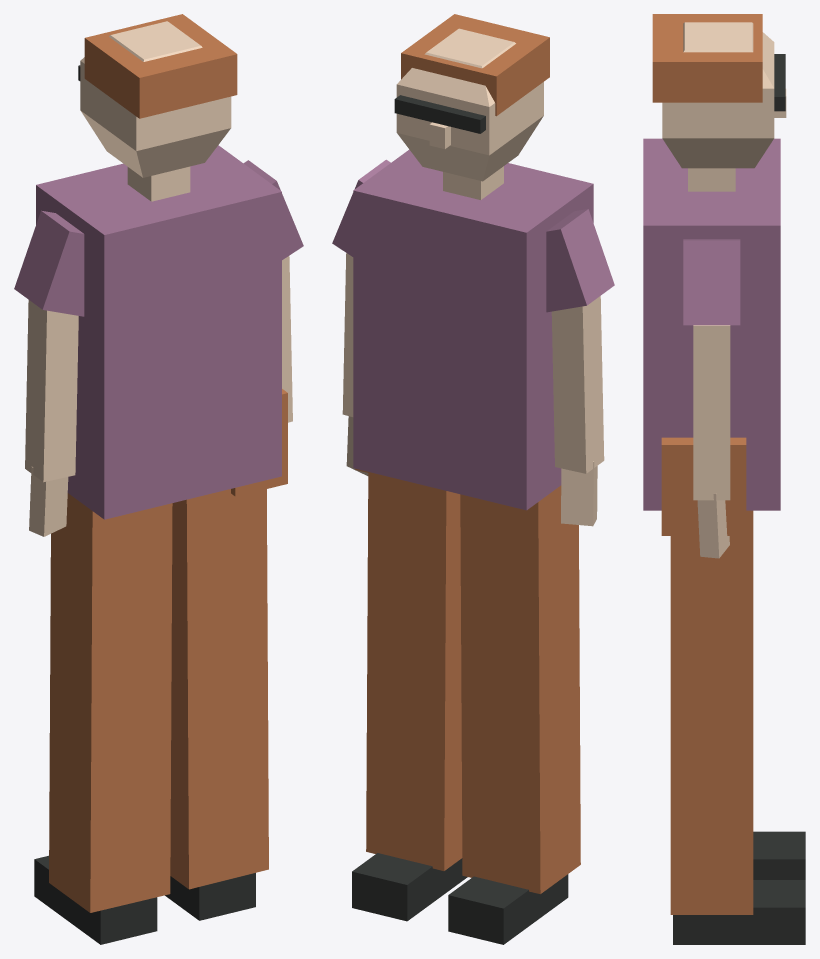
Rendered from pedestrian_15.glb.
3 views of the same model, side by side, from view 1: azimuth 30°, elevation 25°; view 2: azimuth 150°, elevation 25°; view 3: azimuth 270°, elevation 25° (orthographic). The views are drawn at different scales.
Visible parts, largest first — view 1: pedestrian_15 crowd_trousers, pedestrian_15 crowd_shirt, pedestrian_15 crowd_skin, pedestrian_15 crowd_rubber, pedestrian_15 crowd_accessory; view 2: pedestrian_15 crowd_trousers, pedestrian_15 crowd_shirt, pedestrian_15 crowd_skin, pedestrian_15 crowd_rubber; view 3: pedestrian_15 crowd_shirt, pedestrian_15 crowd_trousers, pedestrian_15 crowd_skin, pedestrian_15 crowd_rubber, pedestrian_15 crowd_accessory.
Part boxes in pixels (x1,y1,x2,y2): pedestrian_15 crowd_trousers: [49, 489, 268, 912]; pedestrian_15 crowd_shirt: [14, 145, 303, 519]; pedestrian_15 crowd_skin: [25, 21, 292, 536]; pedestrian_15 crowd_rubber: [34, 14, 255, 944]; pedestrian_15 crowd_accessory: [231, 389, 287, 496]; pedestrian_15 crowd_trousers: [366, 472, 580, 894]; pedestrian_15 crowd_shirt: [332, 149, 614, 510]; pedestrian_15 crowd_skin: [342, 28, 604, 526]; pedestrian_15 crowd_rubber: [352, 14, 568, 944]; pedestrian_15 crowd_shirt: [643, 138, 780, 510]; pedestrian_15 crowd_trousers: [670, 510, 753, 914]; pedestrian_15 crowd_skin: [662, 22, 786, 558]; pedestrian_15 crowd_rubber: [652, 14, 805, 944]; pedestrian_15 crowd_accessory: [661, 437, 746, 535].
Size of the model in its own units: 0.5488 by 1.74 by 0.2952.
